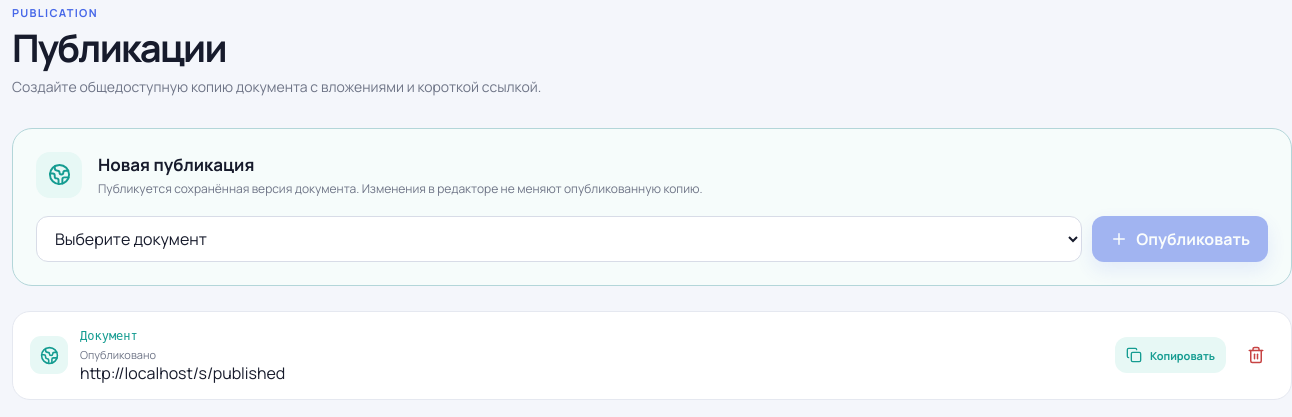
Scenario: copies a publication link when Clipboard API is unavailable
This screenshot has width=1292, height=417.
Click the button "Копировать" at (1170, 355), box x1=1115 y1=337 x2=1226 y2=373
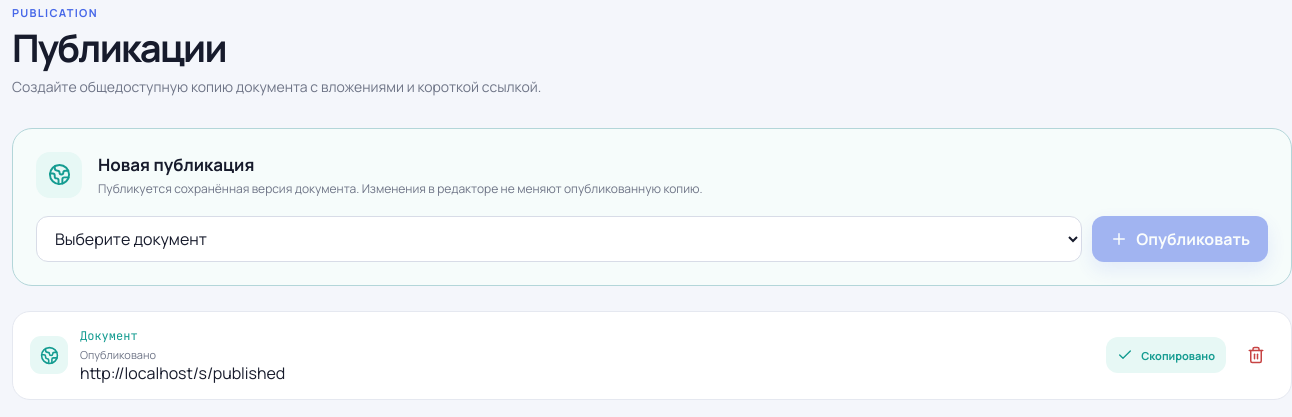
Expected: the button "Скопировано" is shown, x1=1106 y1=337 x2=1226 y2=373
